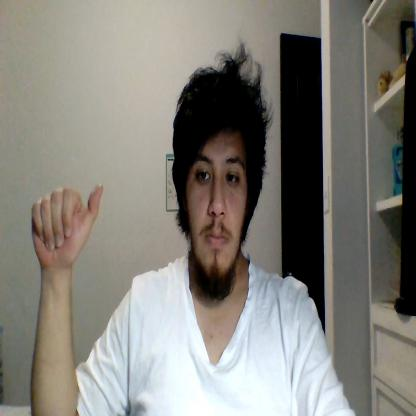A: (32, 184, 103, 267)
